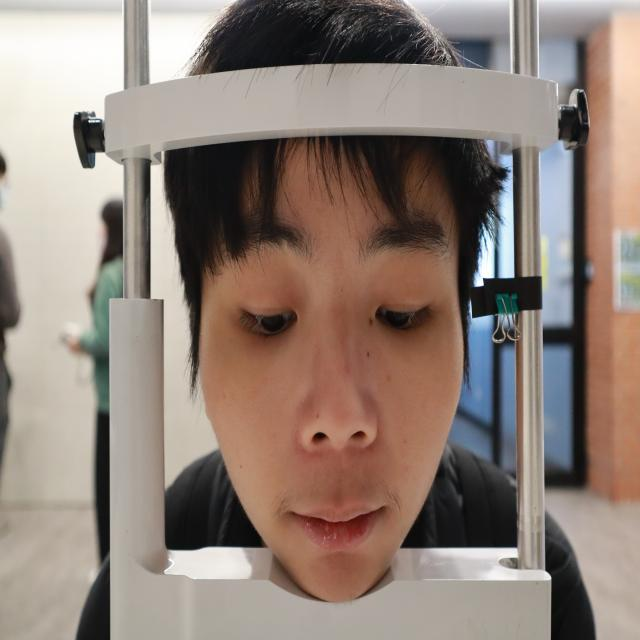eye: (230, 292, 305, 344), (368, 289, 434, 339)
gaze: (384, 309, 410, 328), (260, 314, 286, 332)
